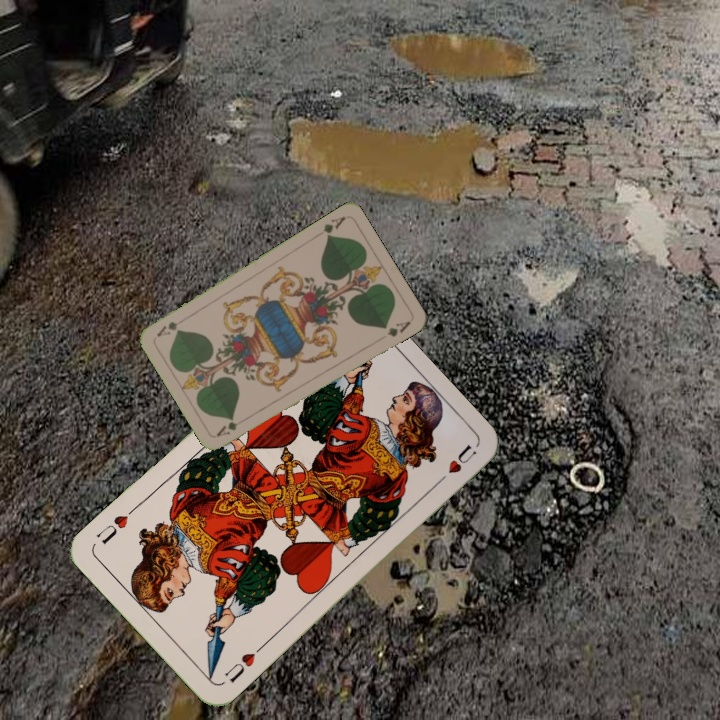GA: (319, 212, 348, 241), (213, 418, 240, 439)
HU: (220, 641, 266, 686)
